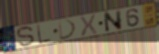6: (125, 8, 141, 28)
D: (57, 18, 78, 41)
L: (36, 23, 53, 45)
N: (103, 8, 124, 34)
S: (15, 25, 36, 48)
X: (78, 13, 99, 38)
